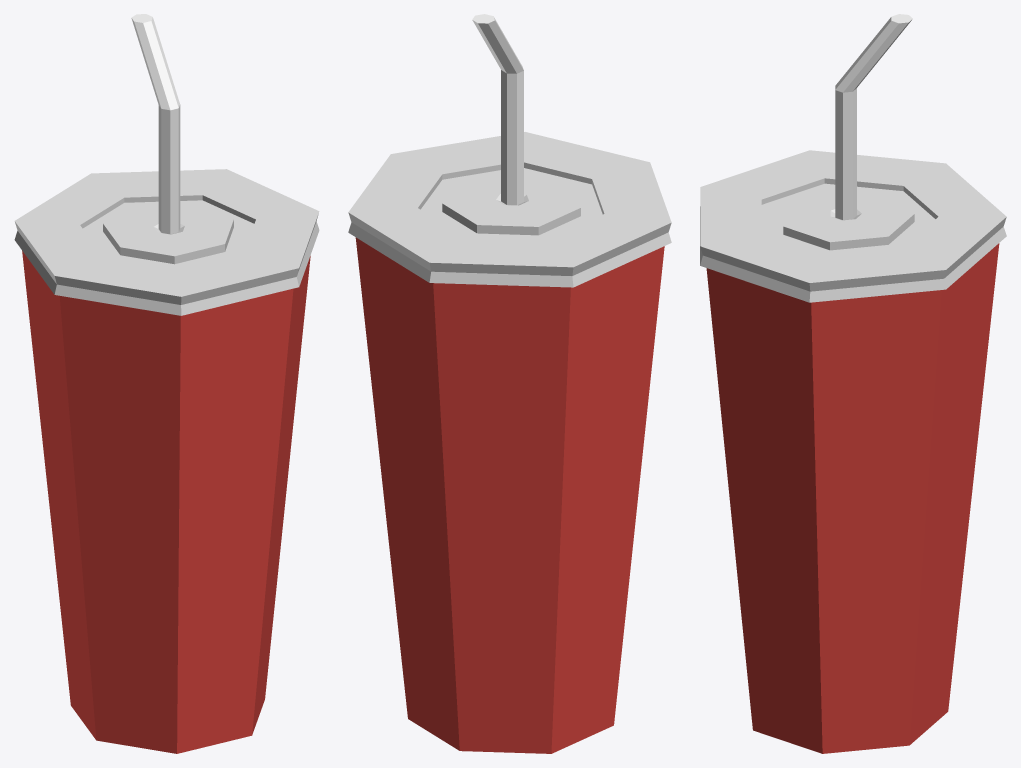
Rendered from Soda_01.fbx.
3 views of the same model, side by side, from view 1: azimuth 30°, elevation 25°; view 2: azimuth 150°, elevation 25°; view 3: azimuth 270°, elevation 25° (orthographic). The views are drawn at different scales.
Parts seen in each view (by area): view 1: Soda_01; view 2: Soda_01; view 3: Soda_01.
Part boxes in pixels (x1,y1,x2,y2): Soda_01: [14, 14, 319, 753]; Soda_01: [348, 14, 671, 753]; Soda_01: [700, 14, 1006, 753].
Size of the model in its own units: 12.26 by 29.79 by 11.95.
